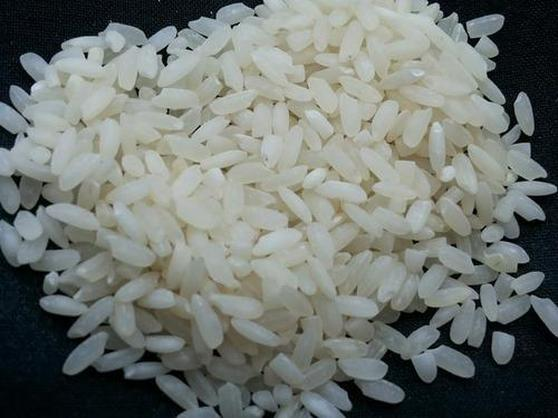rice: (21, 24, 531, 376)
